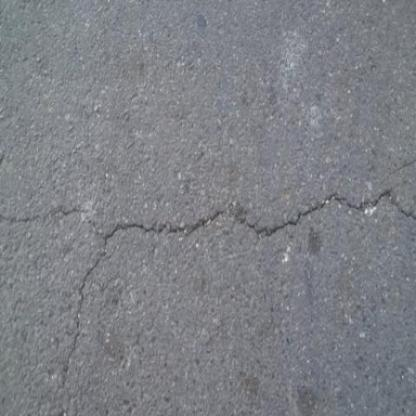Cracks: (0, 183, 415, 388)
